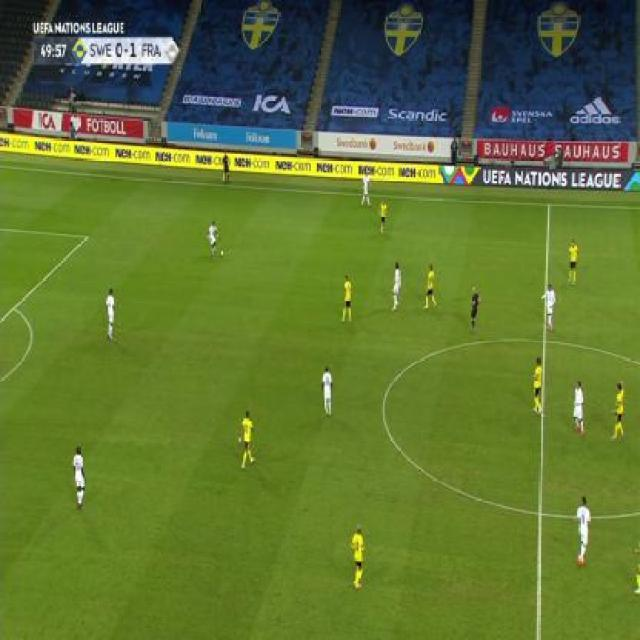ball: (220, 249, 226, 258)
player: (574, 495, 593, 568), (609, 379, 628, 441), (349, 522, 366, 590), (71, 445, 88, 511), (238, 410, 257, 469), (530, 355, 546, 417), (540, 282, 557, 333), (572, 378, 586, 437), (423, 263, 439, 311), (320, 363, 334, 417), (340, 272, 354, 323), (105, 287, 118, 341), (468, 283, 481, 336), (566, 237, 580, 286), (206, 218, 222, 257), (391, 261, 402, 312), (360, 168, 373, 207), (378, 197, 389, 236), (221, 151, 232, 185)
